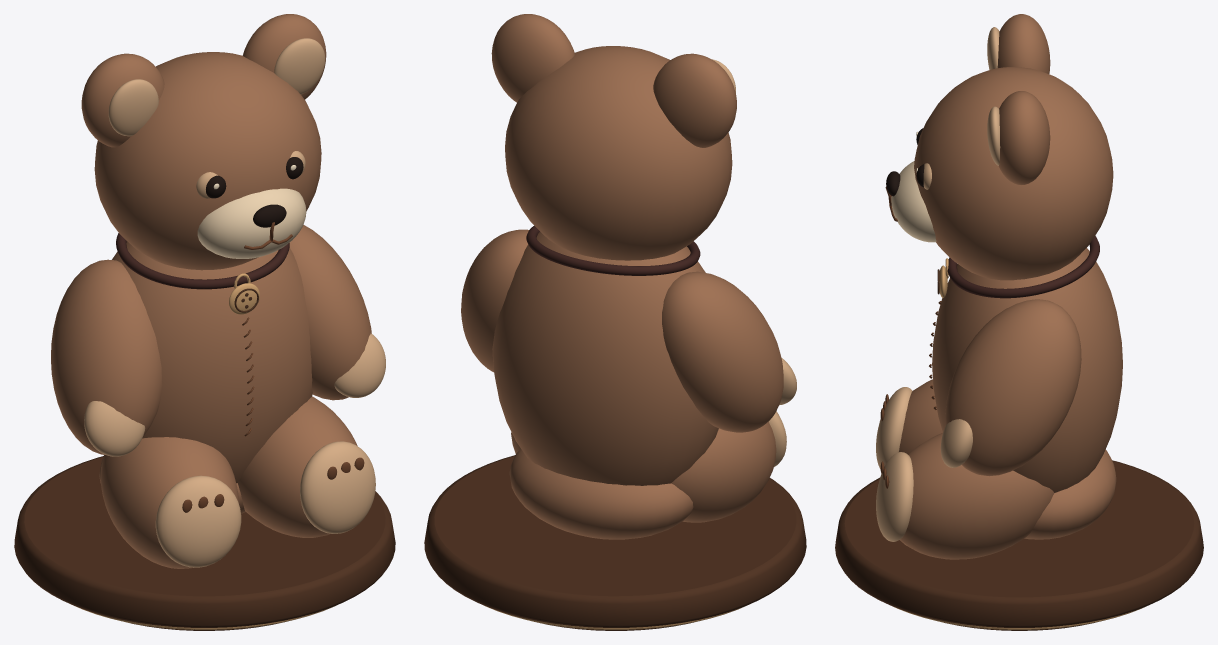
File: plush-bear.glb
3 renders of one model, left to right at view 1: azimuth 30°, elevation 25°; view 2: azimuth 150°, elevation 25°; view 3: azimuth 270°, elevation 25°, orthographic. The views are drawn at different scales.
Visible parts, largest first — view 1: Honed pedestal, Rounded plush head, Pear-shaped seated torso, Left shoulder and arm, Left foot, Right shoulder and arm, Right foot, Left foot sole, Right foot sole, Muzzle inset, Left rolled ear, Right rolled ear (+8 smaller); view 2: Pear-shaped seated torso, Honed pedestal, Rounded plush head, Left shoulder and arm, Seated plush haunches, Left foot, Left rolled ear, Right shoulder and arm, Right rolled ear, Silk neck cord, Brushed brass reveal, Left foot sole; view 3: Honed pedestal, Rounded plush head, Right shoulder and arm, Pear-shaped seated torso, Right foot, Right rolled ear, Seated plush haunches, Right foot sole, Left rolled ear, Muzzle inset, Left foot, Silk neck cord (+4 smaller).
Boxes of the visible parts, box(x1,y1,x2,y2) form: Honed pedestal: box(14, 456, 395, 627); Rounded plush head: box(94, 52, 321, 270); Pear-shaped seated torso: box(112, 241, 312, 483); Left shoulder and arm: box(51, 259, 162, 454); Left foot: box(101, 437, 238, 568); Right shoulder and arm: box(289, 225, 371, 400); Right foot: box(237, 396, 357, 537); Left foot sole: box(155, 475, 241, 567); Right foot sole: box(300, 441, 375, 533); Muzzle inset: box(197, 188, 306, 258); Left rolled ear: box(81, 53, 164, 147); Right rolled ear: box(242, 14, 326, 99); Pear-shaped seated torso: box(492, 231, 718, 485); Honed pedestal: box(424, 455, 806, 627); Rounded plush head: box(505, 46, 732, 260); Left shoulder and arm: box(662, 271, 783, 432); Seated plush haunches: box(509, 449, 693, 539); Left foot: box(671, 422, 776, 522); Left rolled ear: box(653, 53, 736, 147); Right shoulder and arm: box(461, 229, 528, 372); Right rolled ear: box(491, 14, 574, 102); Silk neck cord: box(526, 225, 700, 275); Brushed brass reveal: box(483, 605, 747, 629); Left foot sole: box(768, 411, 786, 466); Honed pedestal: box(835, 460, 1203, 627); Rounded plush head: box(914, 67, 1113, 280); Right shoulder and arm: box(945, 299, 1081, 476); Pear-shaped seated torso: box(932, 248, 1122, 492); Right foot: box(900, 433, 1054, 559); Right rolled ear: box(998, 91, 1050, 184); Seated plush haunches: box(1024, 449, 1116, 539); Right foot sole: box(876, 452, 913, 541); Left rolled ear: box(997, 14, 1050, 73); Muzzle inset: box(891, 161, 936, 242); Left foot: box(899, 379, 942, 454); Silk neck cord: box(947, 235, 1099, 298).
Bounding box in the file's own units: 0.73 × 1.11 × 0.73.
